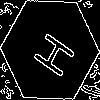H: (25, 25, 77, 81)
